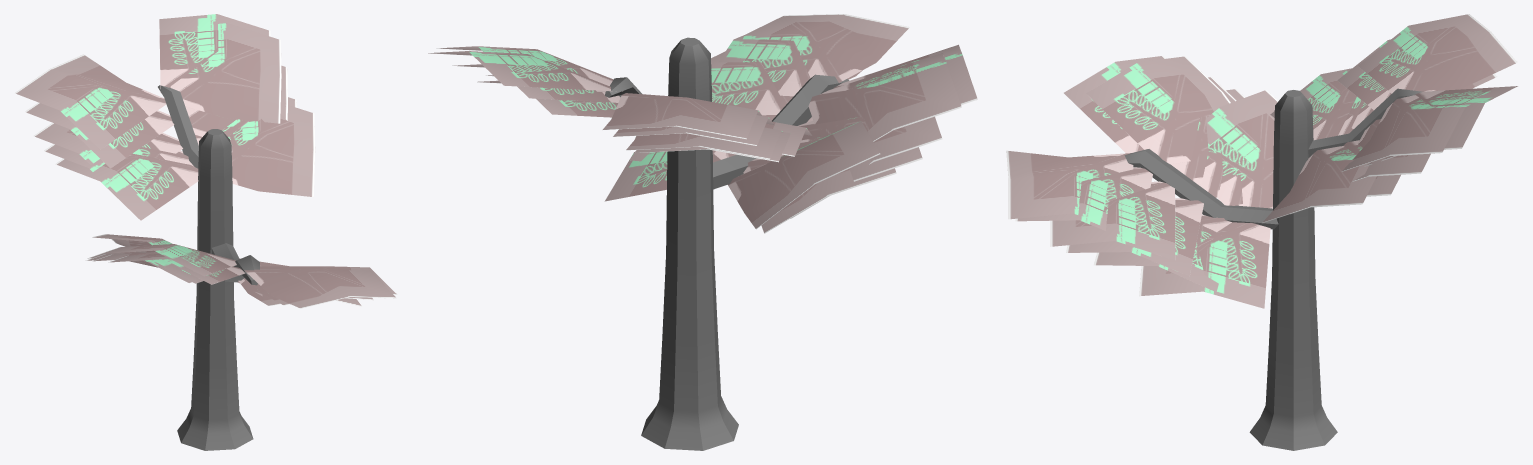
The model's file is Tree_Two_WF.obj.
The picture shows the model from 3 angles, left to right: view 1: azimuth 30°, elevation 25°; view 2: azimuth 150°, elevation 25°; view 3: azimuth 270°, elevation 25°; orthographic projection. The views are drawn at different scales.
Parts seen in each view (by area): view 1: pCylinder14, Good_Ones pPlane135, pPlane141 Good_Ones, Good_Ones pPlane131, Good_Ones pPlane136, Good_Ones pPlane151, Good_Ones pPlane140, Good_Ones pPlane149, Good_Ones pPlane134, Good_Ones pPlane152, Good_Ones pCylinder9 polySurface22, Good_Ones pPlane142 (+6 smaller); view 2: pCylinder14, Good_Ones pPlane134, Good_Ones pPlane132, Good_Ones pPlane151, pPlane141 Good_Ones, Good_Ones pPlane140, Good_Ones pPlane147, Good_Ones pPlane146, Good_Ones polySurface21 pCylinder9, Good_Ones pPlane144, Good_Ones pPlane152, Good_Ones pPlane148 (+9 smaller); view 3: pCylinder14, Good_Ones pPlane134, pPlane141 Good_Ones, Good_Ones pPlane138, Good_Ones pPlane132, Good_Ones pPlane151, Good_Ones pPlane147, Good_Ones pPlane135, Good_Ones pPlane131, Good_Ones polySurface21 pCylinder9, Good_Ones pPlane146, Good_Ones pPlane137 (+11 smaller).
Part boxes in pixels (<box>): pCylinder14: <box>177,129,253,450</box>; Good_Ones pPlane135: <box>170,23,281,123</box>; pPlane141 Good_Ones: <box>15,54,166,149</box>; Good_Ones pPlane131: <box>228,105,315,197</box>; Good_Ones pPlane136: <box>55,153,198,220</box>; Good_Ones pPlane151: <box>244,269,396,308</box>; Good_Ones pPlane140: <box>159,14,270,92</box>; Good_Ones pPlane149: <box>25,102,174,168</box>; Good_Ones pPlane134: <box>100,244,236,275</box>; Good_Ones pPlane152: <box>33,123,182,165</box>; Good_Ones pCylinder9 polySurface22: <box>158,85,198,168</box>; Good_Ones pPlane142: <box>185,65,287,136</box>; pCylinder14: <box>641,37,738,450</box>; Good_Ones pPlane134: <box>808,52,961,141</box>; Good_Ones pPlane132: <box>728,121,880,229</box>; Good_Ones pPlane151: <box>743,14,909,82</box>; pPlane141 Good_Ones: <box>602,93,761,139</box>; Good_Ones pPlane140: <box>428,51,622,91</box>; Good_Ones pPlane147: <box>711,51,793,115</box>; Good_Ones pPlane146: <box>718,35,862,96</box>; Good_Ones polySurface21 pCylinder9: <box>713,74,849,189</box>; Good_Ones pPlane144: <box>797,116,942,164</box>; Good_Ones pPlane152: <box>626,127,783,159</box>; Good_Ones pPlane148: <box>743,154,896,233</box>; pCylinder14: <box>1249,90,1337,450</box>; Good_Ones pPlane134: <box>1086,56,1230,164</box>; pPlane141 Good_Ones: <box>1358,14,1517,93</box>; Good_Ones pPlane138: <box>1139,222,1270,308</box>; Good_Ones pPlane132: <box>1205,90,1278,208</box>; Good_Ones pPlane151: <box>1006,150,1133,219</box>; Good_Ones pPlane147: <box>1050,181,1175,260</box>; Good_Ones pPlane135: <box>1342,95,1470,171</box>; Good_Ones pPlane131: <box>1262,146,1376,223</box>; Good_Ones polySurface21 pCylinder9: <box>1124,149,1278,229</box>; Good_Ones pPlane146: <box>1015,167,1152,230</box>; Good_Ones pPlane137: <box>1066,198,1203,276</box>.
Size of the model in its own units: 3.06 by 3.3 by 4.06.
3 materials, 1 textured.
